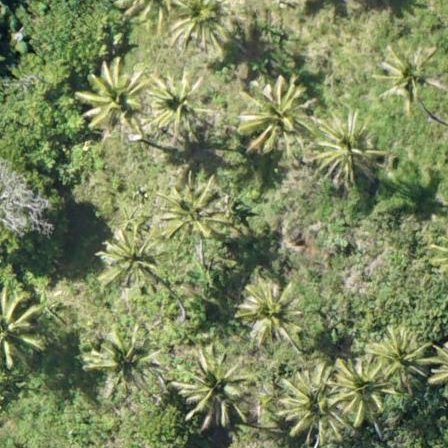palm_tree: (80, 57, 154, 136), (175, 351, 248, 423), (98, 220, 167, 293), (275, 369, 345, 437), (307, 115, 377, 182), (158, 175, 225, 243), (88, 327, 155, 393), (241, 82, 305, 149), (146, 69, 209, 135), (325, 357, 389, 421), (362, 325, 426, 389), (376, 44, 441, 107), (162, 1, 239, 54), (237, 281, 301, 342)
